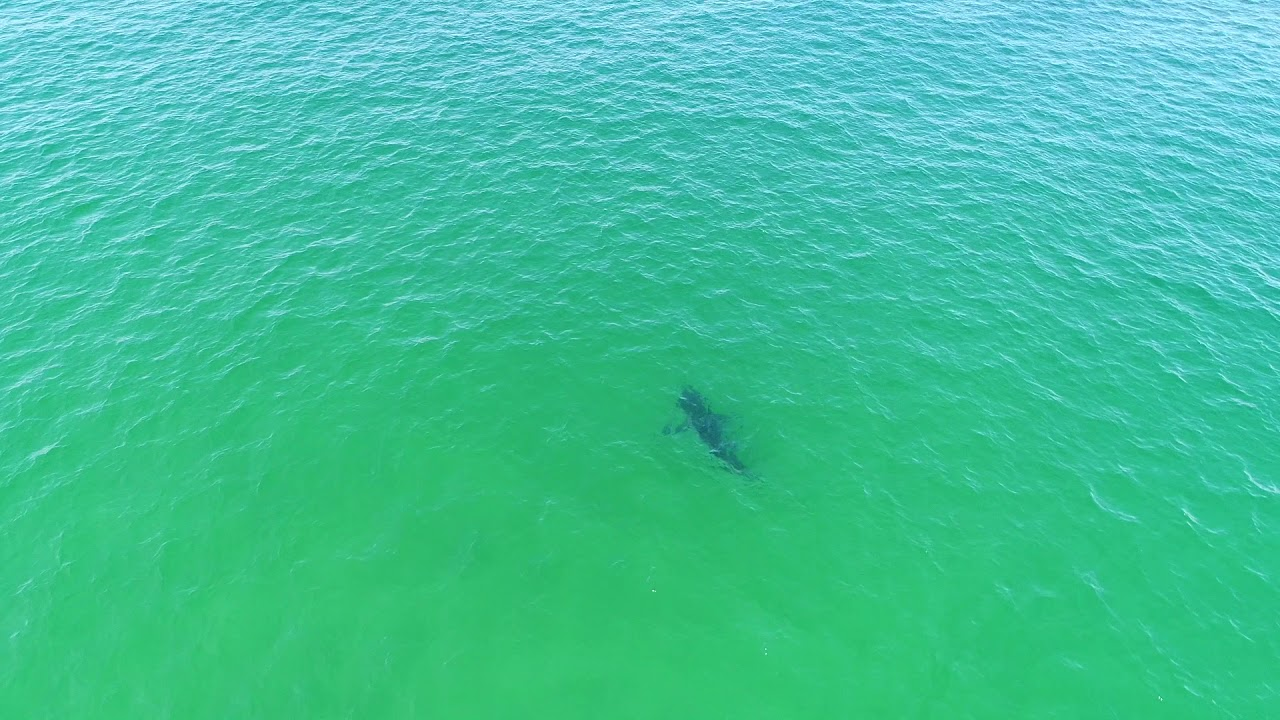shark: (653, 376, 765, 489)
